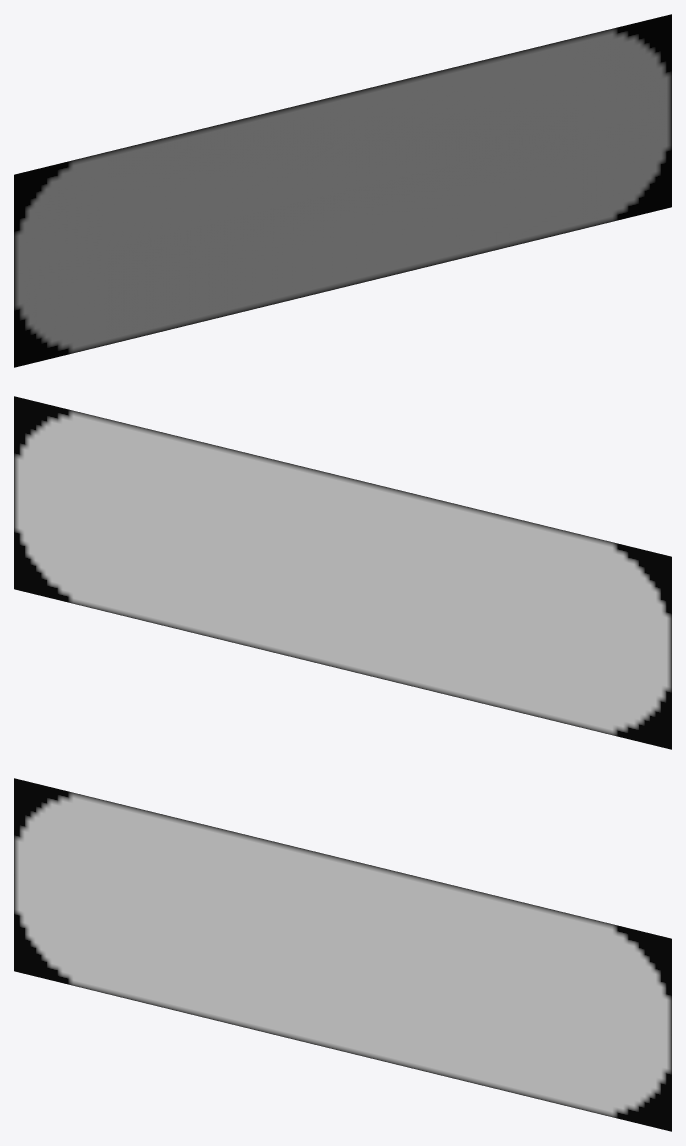
3 renders of one model, top to bottom at view 1: azimuth 30°, elevation 25°; view 2: azimuth 150°, elevation 25°; view 3: azimuth 330°, elevation 25°, orthographic.
Parts seen in each view (by area): view 1: Joint_0_Object_0; view 2: Joint_0_Object_0; view 3: Joint_0_Object_0.
Part boxes in pixels (box(x1,y1,x2,y2)): Joint_0_Object_0: box(14, 14, 671, 367); Joint_0_Object_0: box(14, 396, 671, 749); Joint_0_Object_0: box(14, 778, 671, 1131).
Bounding box in the file's own units: 45.1 × 12.65 × 0.
Materials: 1 (1 with a texture image).
